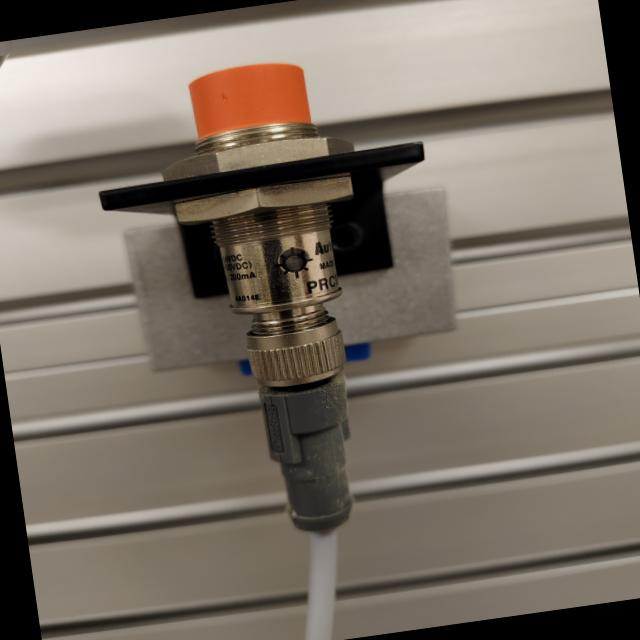inductive sensor: (79, 31, 507, 566)
